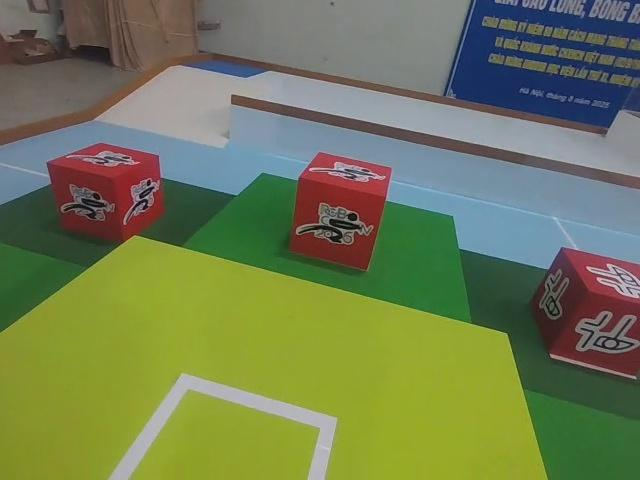R1: (285, 147, 392, 274), (44, 137, 167, 245)
R2 Real: (530, 242, 640, 380)
